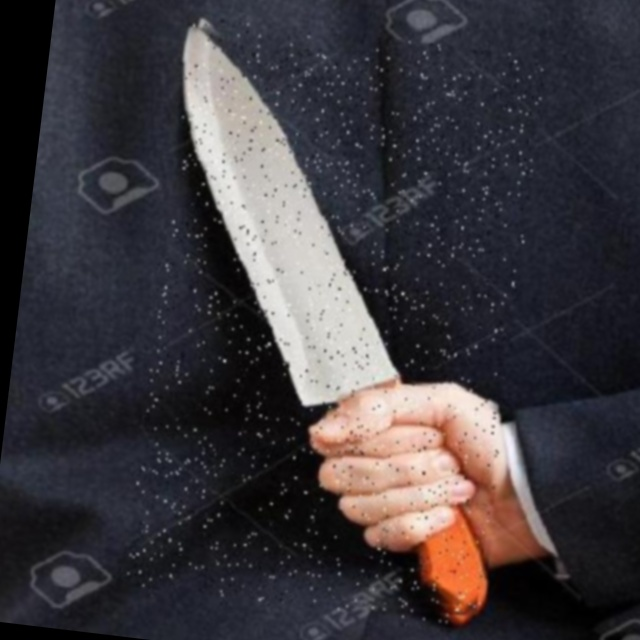Sharp-Object: (124, 15, 546, 626)
